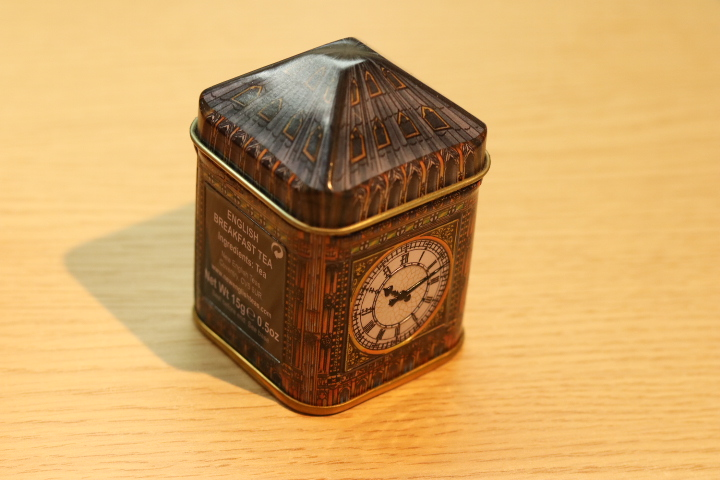Big Ben: (173, 18, 498, 433)
